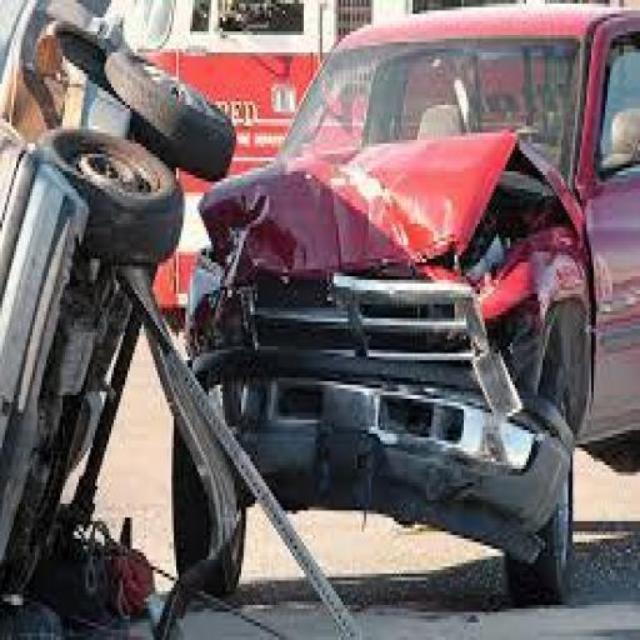crash: (191, 143, 596, 558)
